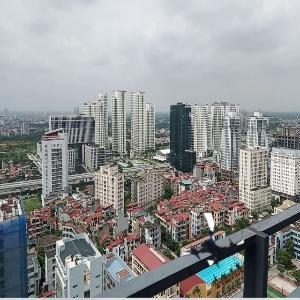drone: (176, 206, 246, 276)
